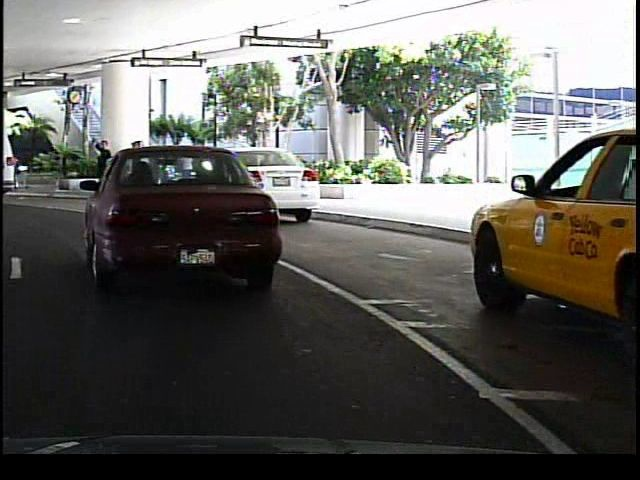person: (87, 137, 111, 195), (125, 139, 149, 196), (170, 143, 197, 193)
